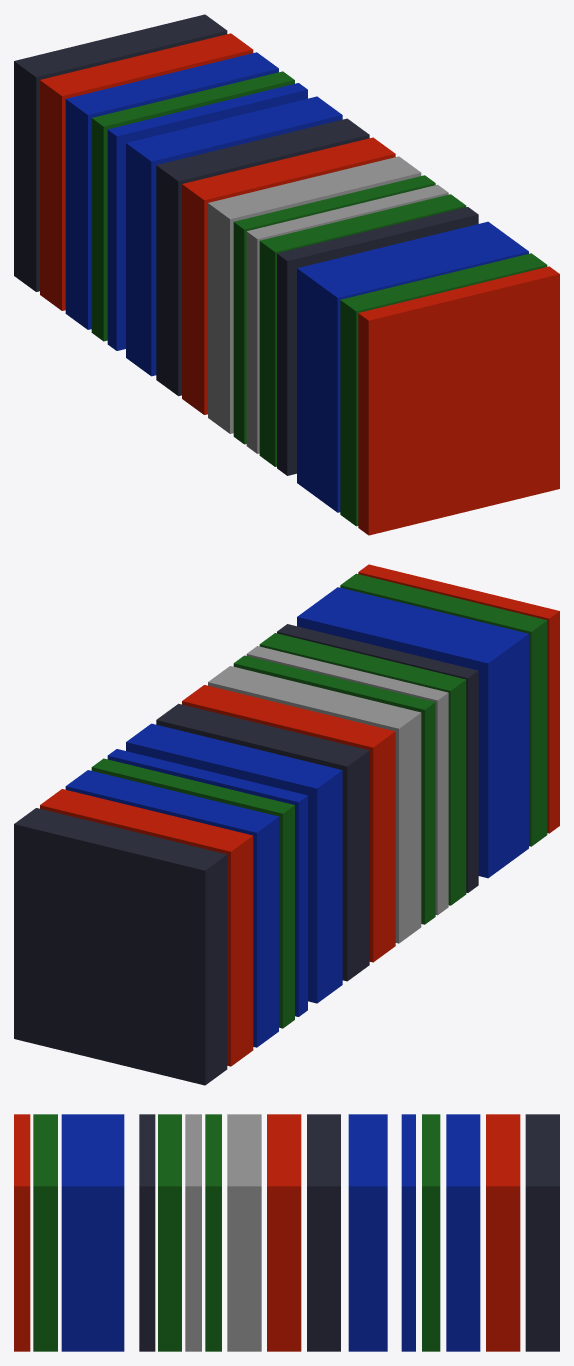
The model's file is book.fbx.
3 renders of one model, top to bottom at view 1: azimuth 30°, elevation 25°; view 2: azimuth 150°, elevation 25°; view 3: azimuth 270°, elevation 25°, orthographic. The views are drawn at different scales.
Parts seen in each view (by area): view 1: Cube_2_2, Cube_3, Cube_4, Cube_2_4, Cube_6, Cube_4_2, Cube, Cube_5, Cube_7_3, Cube_3_3, Cube_3_2, Cube_2 (+4 smaller); view 2: Cube, Cube_3, Cube_4, Cube_5, Cube_6, Cube_7_3, Cube_4_2, Cube_2_4, Cube_2, Cube_7, Cube_3_4, Cube_7_2 (+4 smaller); view 3: Cube_3, Cube_4, Cube, Cube_7_3, Cube_6, Cube_2_4, Cube_4_2, Cube_5, Cube_2, Cube_7, Cube_3_4, Cube_2_2 (+4 smaller).
Part boxes in pixels (left/top/right/bottom): Cube_2_2: left=358, top=266, right=559, bottom=535; Cube_3: left=297, top=221, right=528, bottom=512; Cube_4: left=126, top=96, right=342, bottom=376; Cube_2_4: left=65, top=52, right=278, bottom=329; Cube_6: left=182, top=137, right=395, bottom=414; Cube_4_2: left=40, top=33, right=253, bottom=310; Cube: left=14, top=14, right=227, bottom=291; Cube_5: left=156, top=118, right=369, bottom=396; Cube_7_3: left=208, top=156, right=421, bottom=433; Cube_3_3: left=277, top=207, right=478, bottom=475; Cube_3_2: left=107, top=83, right=307, bottom=350; Cube_2: left=340, top=253, right=547, bottom=526; Cube: left=14, top=808, right=227, bottom=1085; Cube_3: left=297, top=587, right=528, bottom=878; Cube_4: left=126, top=723, right=342, bottom=1003; Cube_5: left=156, top=703, right=369, bottom=981; Cube_6: left=182, top=685, right=395, bottom=962; Cube_7_3: left=208, top=666, right=421, bottom=943; Cube_4_2: left=40, top=789, right=253, bottom=1066; Cube_2_4: left=65, top=770, right=278, bottom=1047; Cube_2: left=340, top=573, right=547, bottom=846; Cube_7: left=259, top=633, right=466, bottom=905; Cube_3_4: left=91, top=758, right=294, bottom=1028; Cube_7_2: left=233, top=655, right=435, bottom=924; Cube_3: left=61, top=1114, right=124, bottom=1351; Cube_4: left=348, top=1114, right=387, bottom=1351; Cube: left=525, top=1114, right=559, bottom=1351; Cube_7_3: left=227, top=1114, right=261, bottom=1351; Cube_6: left=267, top=1114, right=301, bottom=1351; Cube_2_4: left=446, top=1114, right=480, bottom=1351; Cube_4_2: left=486, top=1114, right=520, bottom=1351; Cube_5: left=307, top=1114, right=340, bottom=1351; Cube_2: left=33, top=1114, right=57, bottom=1351; Cube_7: left=158, top=1114, right=181, bottom=1351; Cube_3_4: left=422, top=1114, right=440, bottom=1351; Cube_2_2: left=14, top=1114, right=30, bottom=1351.
Bounding box in the file's own units: 42.7 × 45.85 × 137.
